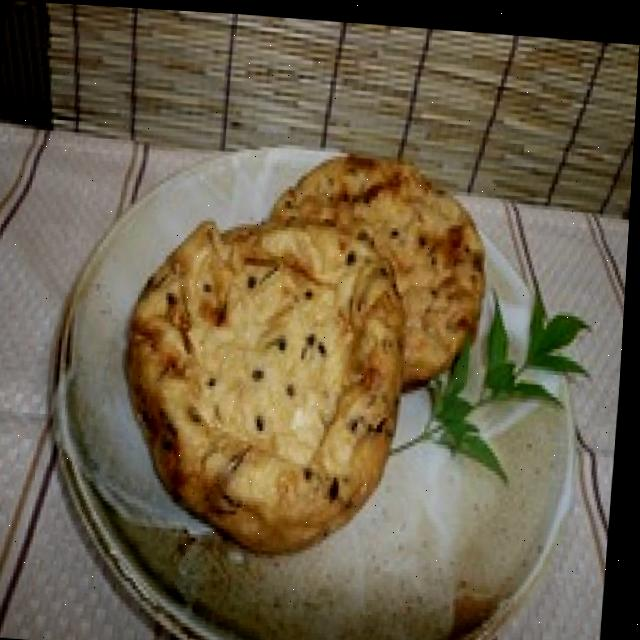熟制海鲜: (102, 51, 521, 526)
